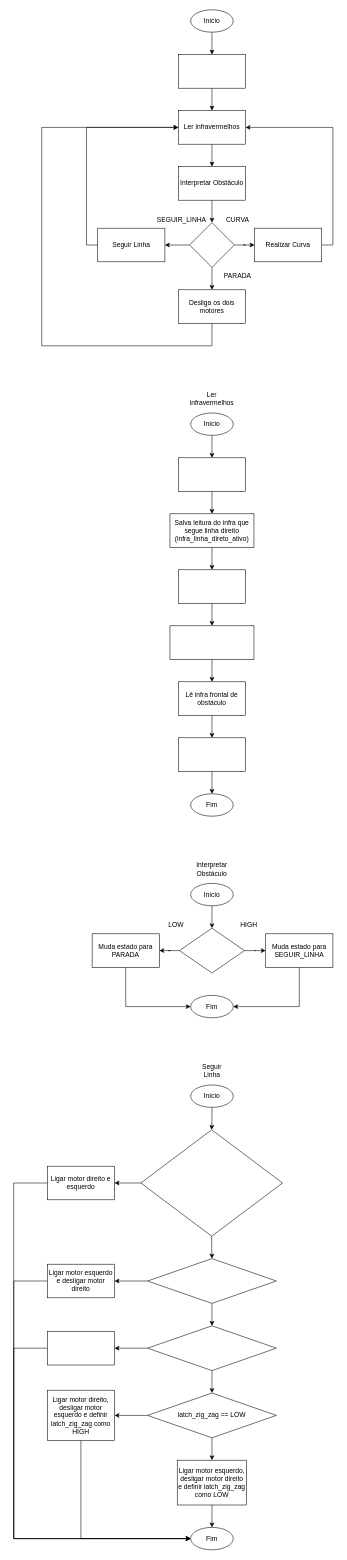
Image size: 347x1560. Some labels were removed from this diagram. The shapes that lost their labels are listed below. From the top down, each one's centre as x and y in pixels, then its label:
At pixel 212 71: "Definir pinos e variáveis".
At pixel 211 244: "Estado".
At pixel 212 474: "Lê infra que segue linha direito".
At pixel 212 586: "Lê infra que segue linha esquerdo".
At pixel 211 642: "Salva leitura do infra que segue linha esquerdo (infra_linha_direto_ativo)".
At pixel 212 754: "Salva leitura do infra frontal de obstáculo (leitura_obstaculo)".
At pixel 211 950: "leitura_obstaculo".
At pixel 211 1182: "infra_linha_direito_ativo == HIGH & infra_linha_esquerdo_ativo == HIGH".
At pixel 211 1280: "infra_linha_direito_ativo == HIGH".
At pixel 81 1348: "Ligar motor direito e desligar motor esquerdo".
At pixel 211 1348: "infra_linha_esquerdo_ativo == HIGH".
